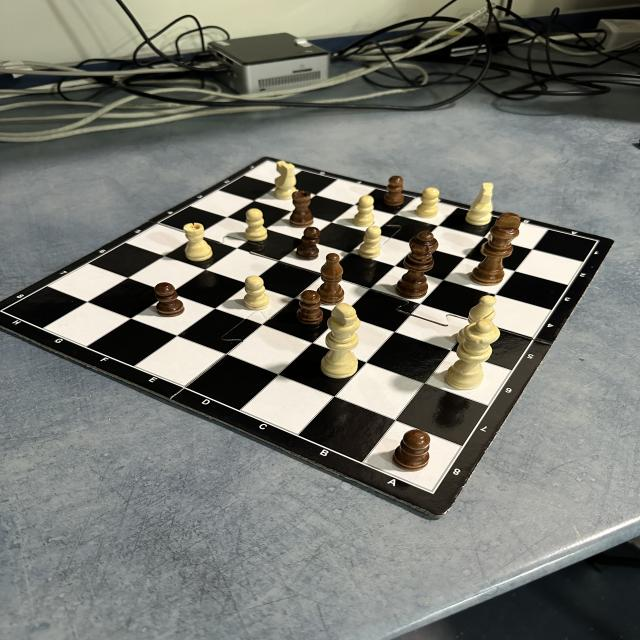Black-Bishop: (317, 253, 346, 305)
Black-King: (470, 212, 521, 286)
Black-Pawn: (392, 429, 430, 470), (155, 281, 185, 317), (296, 226, 320, 260), (299, 290, 321, 325), (384, 176, 404, 206)
Black-Queen: (395, 231, 438, 299)
Black-Rook: (290, 190, 312, 227)
White-Bishop: (469, 295, 495, 323)
White-King: (320, 304, 360, 379)
White-Knight: (465, 183, 495, 223), (273, 162, 296, 200)
White-Pawn: (243, 277, 269, 310), (245, 208, 268, 242), (358, 226, 382, 258), (416, 187, 440, 218), (356, 195, 374, 224)
White-Queen: (444, 319, 501, 390)
White-Rook: (185, 223, 212, 262)
